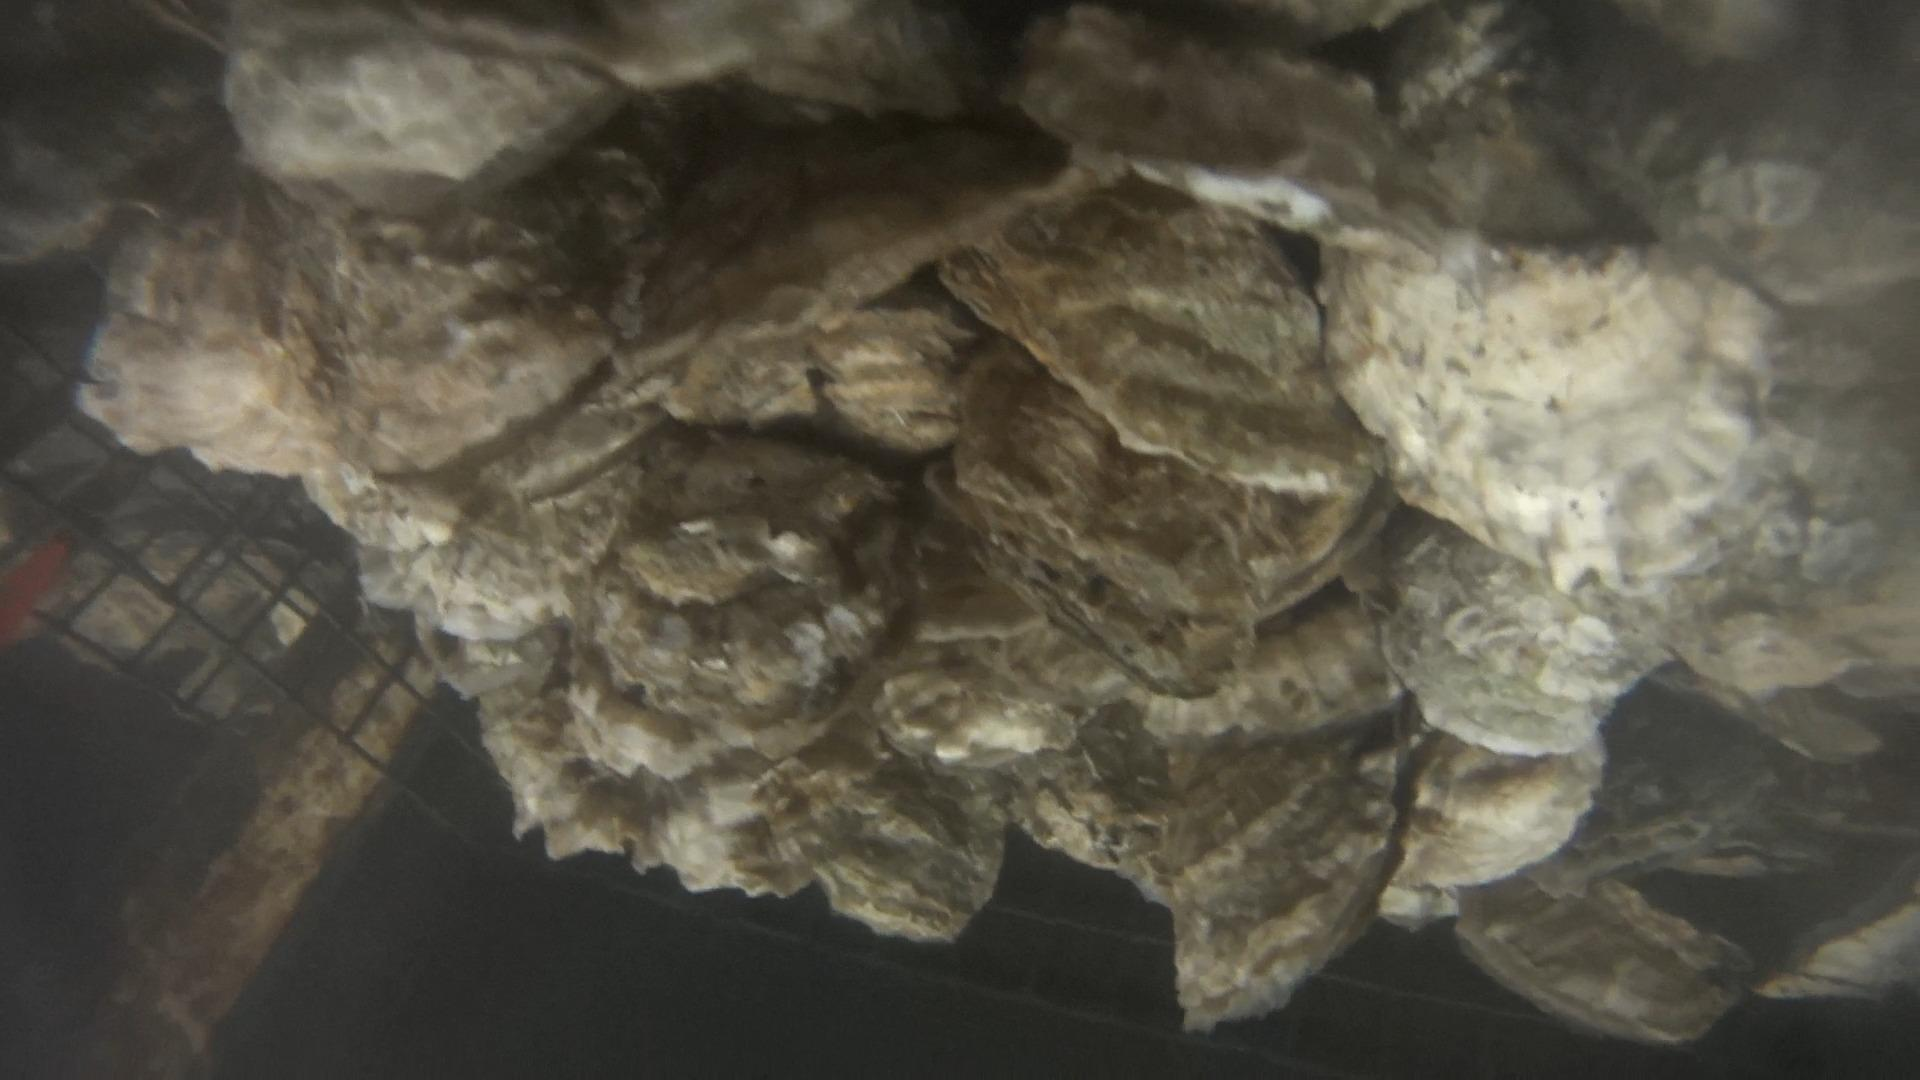3: (554, 433, 895, 719)
Oyster-Closed: (939, 186, 1337, 407), (1171, 740, 1414, 1034), (1455, 878, 1753, 1040), (1743, 858, 1920, 1025), (1250, 467, 1394, 617)
Oyster-Open: (1327, 232, 1756, 588), (609, 129, 1069, 427), (231, 153, 665, 467), (413, 613, 793, 899), (1026, 7, 1465, 243), (1677, 297, 1920, 696), (949, 376, 1255, 692), (84, 228, 406, 495), (1584, 70, 1920, 305), (1584, 661, 1920, 876), (411, 0, 963, 123), (858, 630, 1145, 866), (1379, 502, 1638, 757), (212, 3, 570, 182), (771, 727, 1007, 940), (0, 66, 239, 264), (1377, 731, 1600, 920), (349, 481, 587, 647), (1098, 386, 1379, 483), (802, 309, 980, 448), (492, 375, 667, 488), (1607, 0, 1809, 66)
